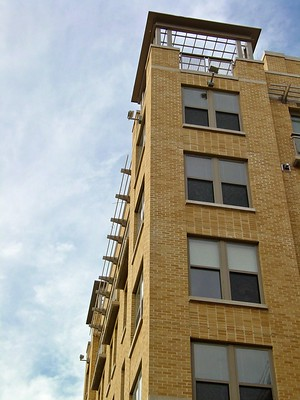high: (81, 7, 300, 400)
